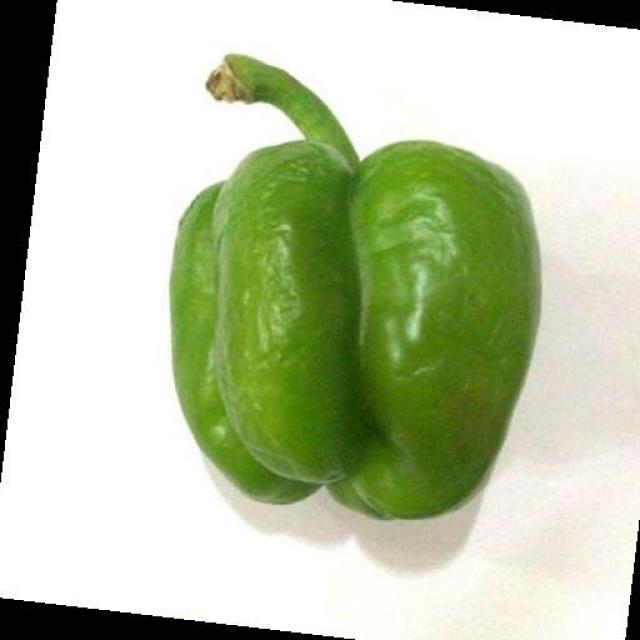Fresh_Capsicum: (168, 59, 553, 515)
